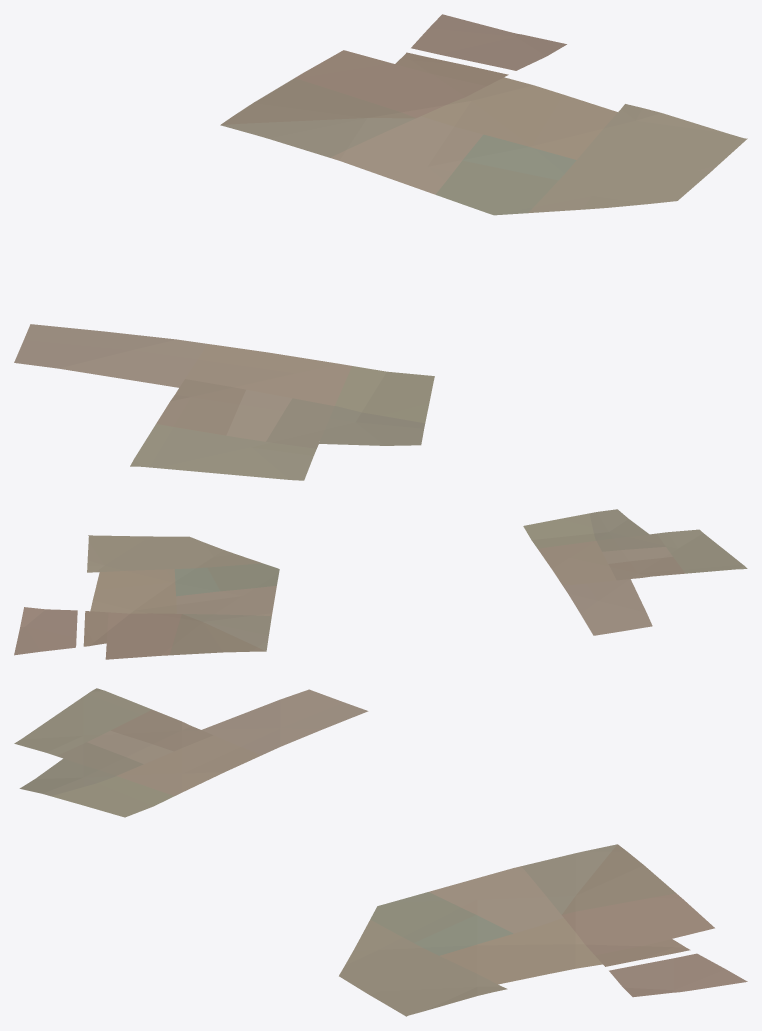
File: farm_-2_12_soil.glb
The picture shows the model from 3 angles, top to bottom: view 1: azimuth 30°, elevation 25°; view 2: azimuth 150°, elevation 25°; view 3: azimuth 270°, elevation 25°; orthographic projection. The views are drawn at different scales.
Parts seen in each view (by area): view 1: geometry_0; view 2: geometry_0; view 3: geometry_0.
Boxes of the visible parts, left/top/right/bottom form: geometry_0: left=14, top=14, right=747, bottom=480; geometry_0: left=14, top=509, right=747, bottom=659; geometry_0: left=14, top=688, right=747, bottom=1016.
Size of the model in its own units: 620 by 15.49 by 597.
